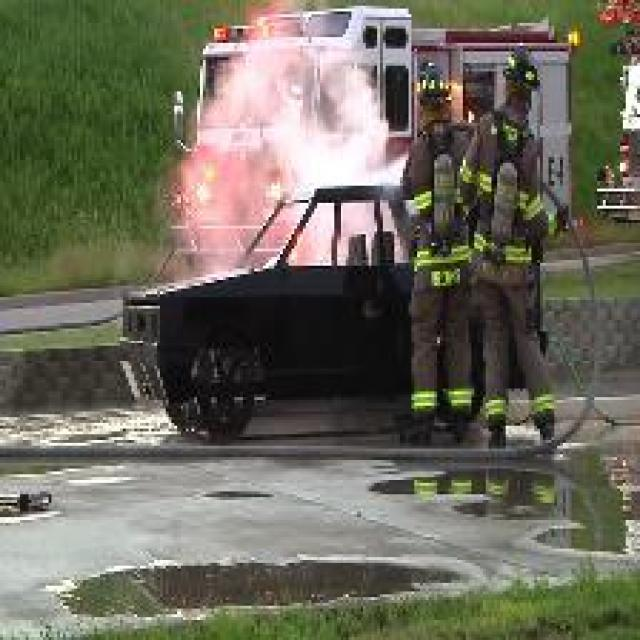smoke: (248, 57, 413, 253)
